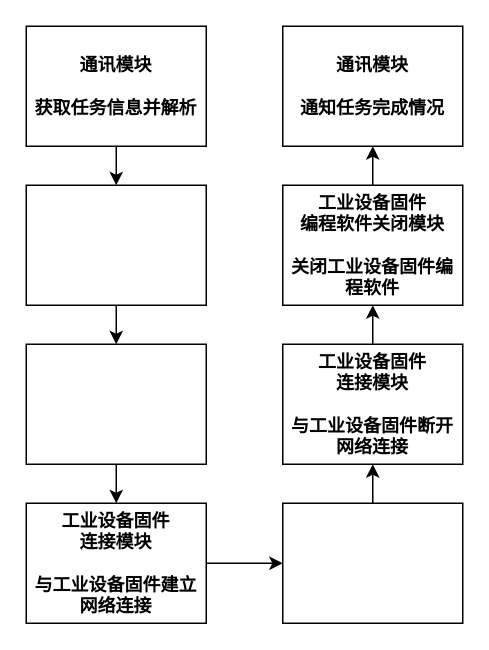
Some shapes in this 489 by 650 pixel diagram are drawn without their labels. The shapes that lost their labels are listed below. From the top down, each one's centre as x and y in pixels, then its label:
(115,244): 工业设备固件 编程软件启动模块 启动工业设备固件编程软件
(115,403): 备份文件导入模块 搜索备份文件 用工业设备固件编程软件打开
(372,562): 备份固件下载模块 通过工业设备固件 编程软件下载固件并保存
